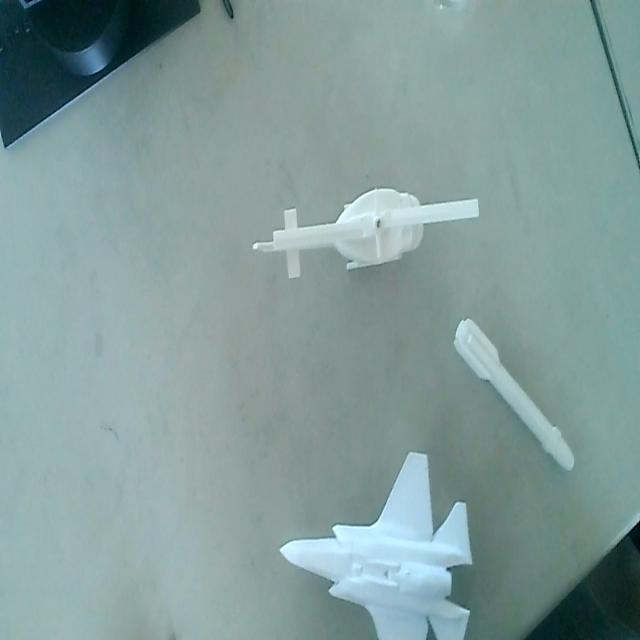Helicopter: (248, 172, 480, 288)
Jet: (268, 444, 480, 640)
Rocket: (448, 304, 576, 486)
